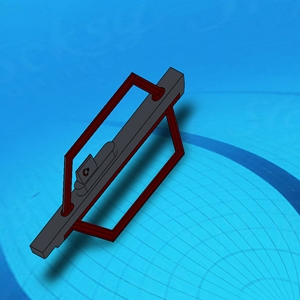submarine: (35, 66, 190, 266)
